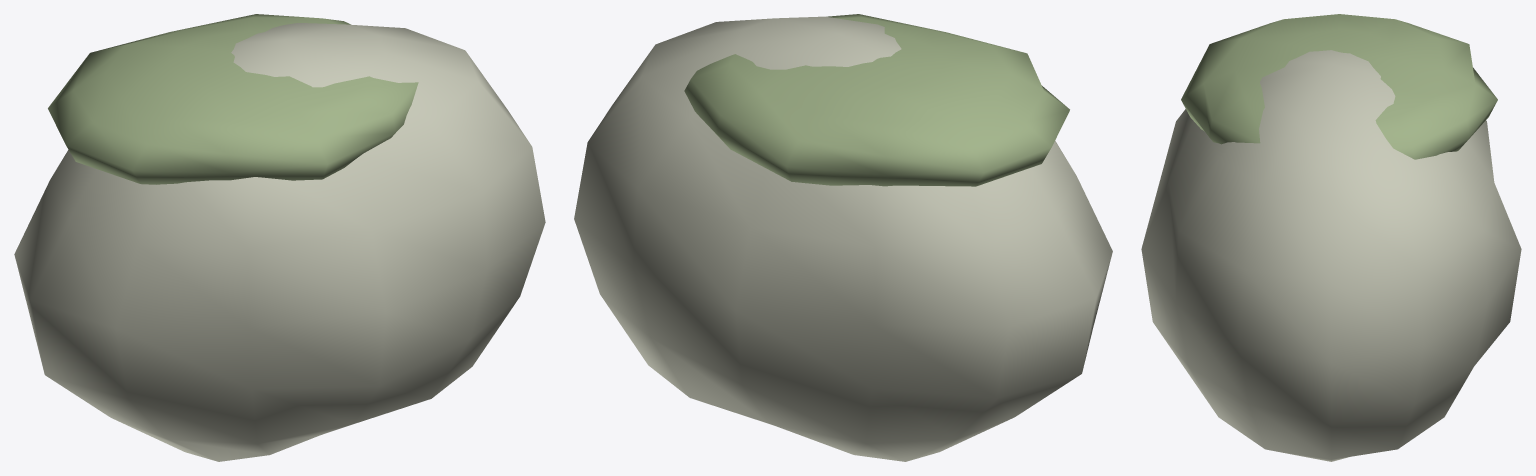
File: SM_Rock_1_UV9246.fbx
3 renders of one model, left to right at view 1: azimuth 30°, elevation 25°; view 2: azimuth 150°, elevation 25°; view 3: azimuth 270°, elevation 25°, orthographic. The views are drawn at different scales.
Visible parts, largest first — view 1: SM_Rock_1_UV9246; view 2: SM_Rock_1_UV9246; view 3: SM_Rock_1_UV9246.
Part boxes in pixels (x1,y1,x2,y2): SM_Rock_1_UV9246: (14,14,545,461); SM_Rock_1_UV9246: (574,14,1112,461); SM_Rock_1_UV9246: (1141,14,1521,461).
Bounding box in the file's own units: 339 × 237 × 249.
